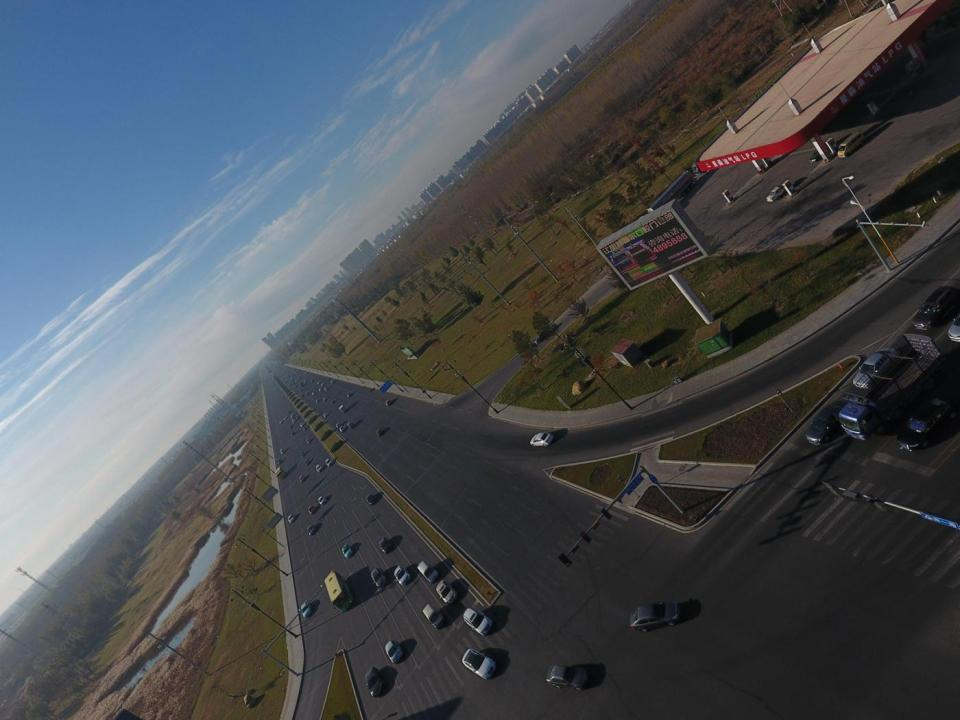bus: (323, 570, 354, 611)
car: (897, 386, 960, 451), (806, 400, 848, 446), (853, 347, 898, 389), (630, 601, 682, 632), (545, 664, 591, 692), (462, 648, 497, 680), (464, 607, 494, 637), (364, 666, 386, 698), (532, 323, 560, 346), (766, 180, 794, 202), (436, 580, 458, 606), (808, 144, 830, 164), (386, 639, 404, 663), (393, 564, 412, 586), (530, 432, 556, 448), (370, 568, 388, 588), (378, 536, 392, 554), (301, 600, 313, 620), (341, 542, 354, 559), (366, 492, 376, 506), (308, 523, 316, 535), (315, 462, 323, 473), (288, 514, 296, 523), (318, 495, 326, 504), (308, 504, 315, 514), (376, 428, 384, 436), (338, 425, 346, 432), (326, 459, 334, 466), (384, 400, 392, 406), (348, 421, 354, 429), (303, 460, 311, 466), (299, 475, 305, 482), (300, 450, 305, 457), (346, 392, 352, 397), (336, 422, 341, 428), (306, 438, 311, 444), (302, 425, 308, 430), (277, 459, 282, 464), (299, 422, 304, 427), (324, 412, 328, 418), (330, 400, 336, 404), (290, 430, 294, 436), (287, 410, 291, 415), (316, 399, 320, 403), (288, 424, 292, 428), (290, 413, 294, 417), (279, 420, 283, 424), (318, 388, 322, 391), (331, 380, 335, 383), (292, 419, 296, 422), (282, 417, 286, 420), (299, 382, 302, 385), (311, 379, 314, 382), (301, 394, 304, 397), (317, 381, 320, 384), (312, 392, 315, 395), (321, 383, 324, 386), (323, 398, 326, 401), (296, 415, 299, 418), (292, 377, 294, 381), (305, 379, 307, 383), (281, 448, 283, 452), (298, 375, 301, 377), (295, 380, 298, 382), (288, 384, 290, 387), (301, 385, 304, 387), (300, 389, 303, 391), (306, 392, 308, 395), (286, 382, 288, 384), (286, 379, 288, 381), (287, 375, 289, 377), (293, 372, 295, 374), (298, 369, 300, 371), (290, 378, 292, 380), (290, 381, 292, 383), (298, 377, 300, 379), (305, 372, 307, 374), (292, 381, 294, 383), (293, 383, 295, 385), (295, 386, 297, 388), (288, 376, 289, 378), (296, 372, 298, 373)
truck: (839, 333, 945, 441), (638, 172, 696, 231), (691, 120, 746, 176), (913, 285, 960, 331), (274, 467, 287, 479), (338, 404, 347, 412)
van: (838, 132, 866, 158), (421, 603, 446, 629), (416, 559, 440, 583), (324, 387, 328, 391)
